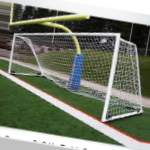goals: (7, 32, 144, 122)
